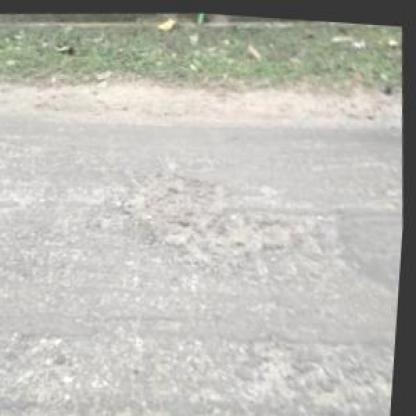pothole: (117, 151, 302, 273)
